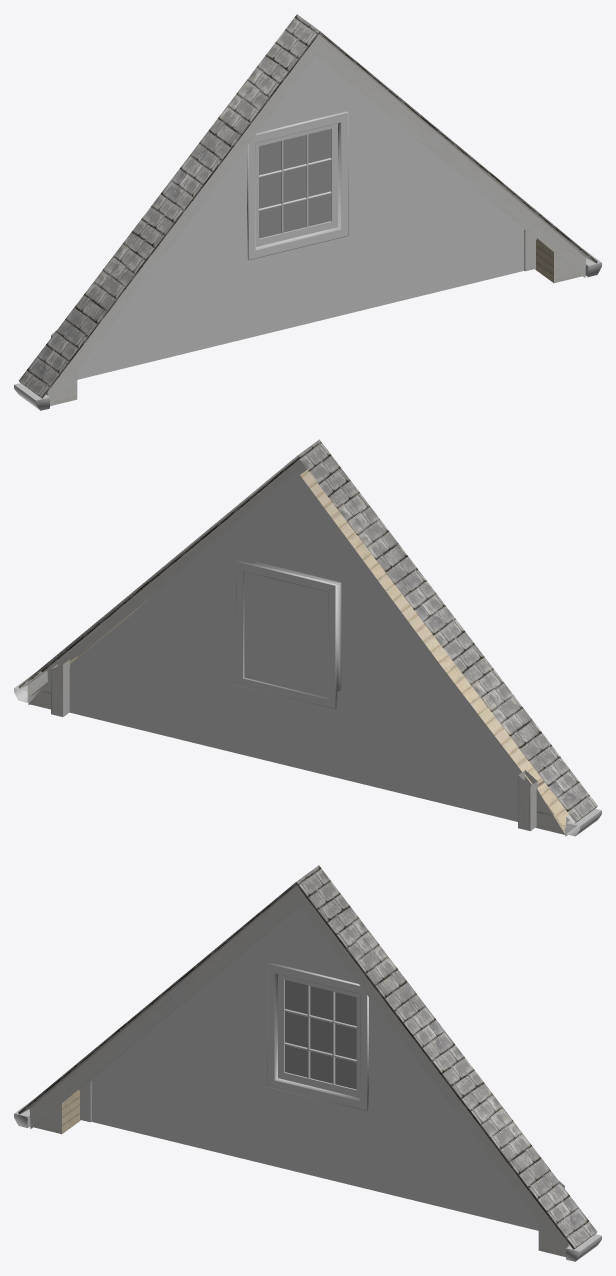
Rendered from Roof_End_Window_A_5x.FBX.
3 views of the same model, one above another, from view 1: azimuth 30°, elevation 25°; view 2: azimuth 150°, elevation 25°; view 3: azimuth 330°, elevation 25° (orthographic).
Parts seen in each view (by area): view 1: Roof_End_Window_A_5x; view 2: Roof_End_Window_A_5x; view 3: Roof_End_Window_A_5x.
Boxes of the visible parts, x1,y1,x2,y2 form: Roof_End_Window_A_5x: [14, 14, 601, 410]; Roof_End_Window_A_5x: [14, 439, 601, 836]; Roof_End_Window_A_5x: [14, 865, 601, 1261].
Bounding box in the file's own units: 594 × 316 × 61.41.
